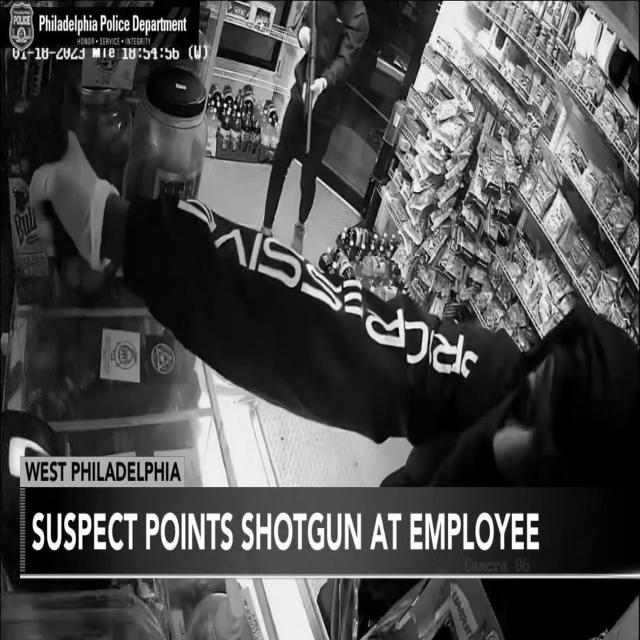weapon: (0, 71, 81, 264), (296, 0, 321, 159)
